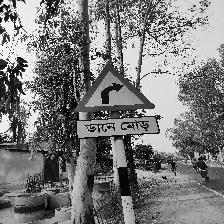Right-turn: (73, 64, 159, 140)
